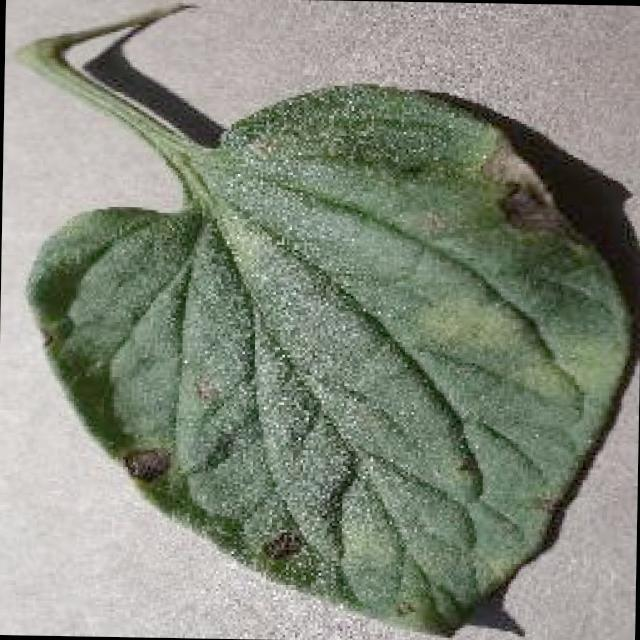Tomato Early blight leaf: (28, 78, 638, 635)
